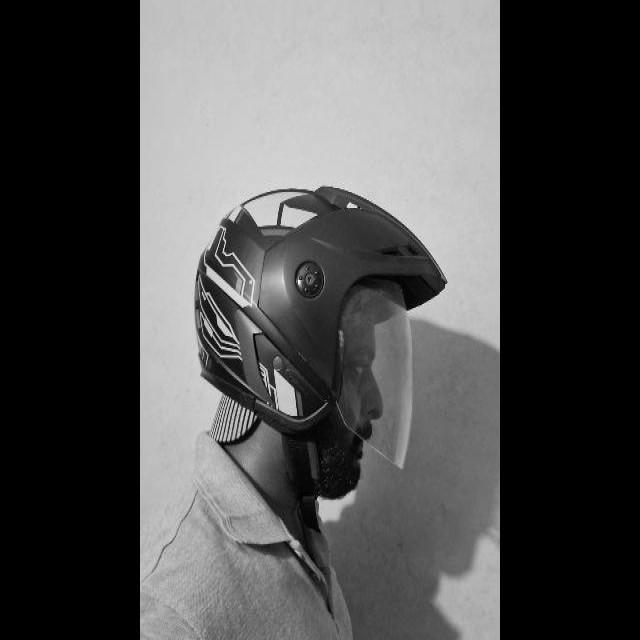5_casco: (192, 186, 448, 474)
